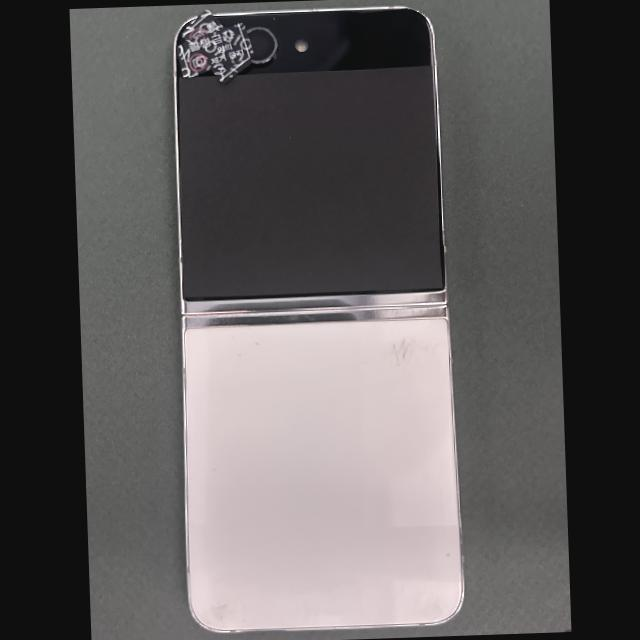lens: (246, 26, 277, 64)
phone: (175, 7, 463, 631)
sticker: (176, 22, 255, 78), (182, 10, 223, 41)
